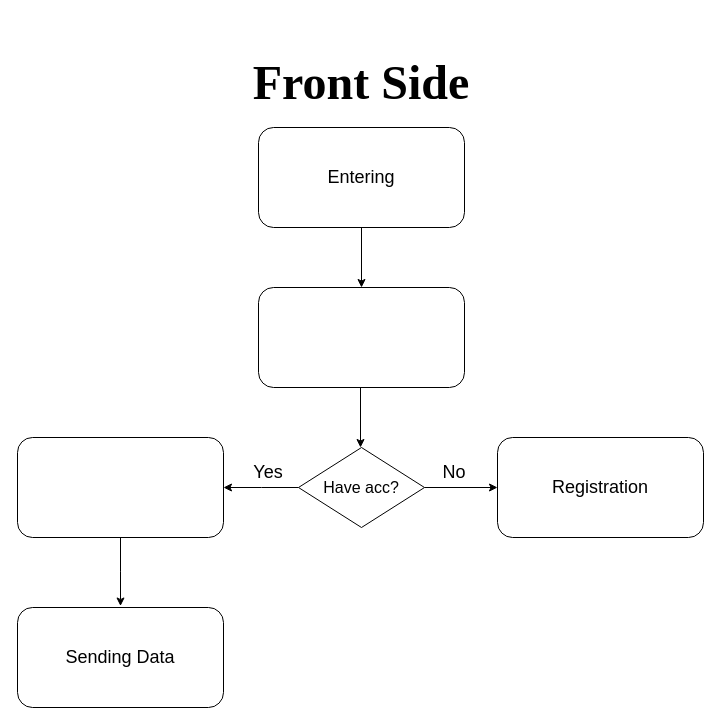
Image size: 721x725. Some labels were removed from this diagram. Each missing label, with the centre of its shape:
Auth: pixel 120 487
Log In Page: pixel 361 337
